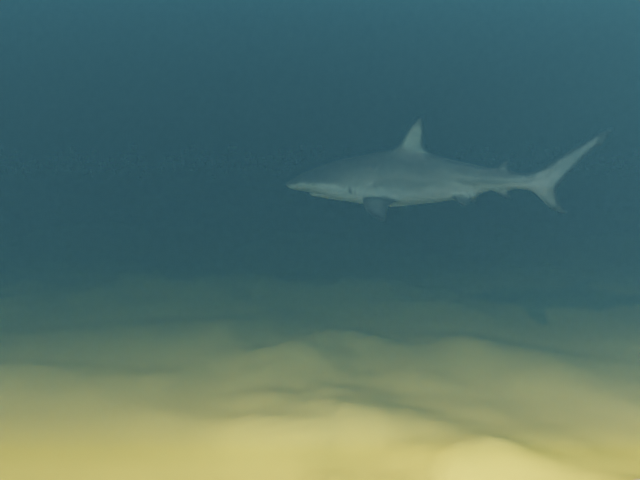Carribean Shark.001: (285, 118, 611, 221)
